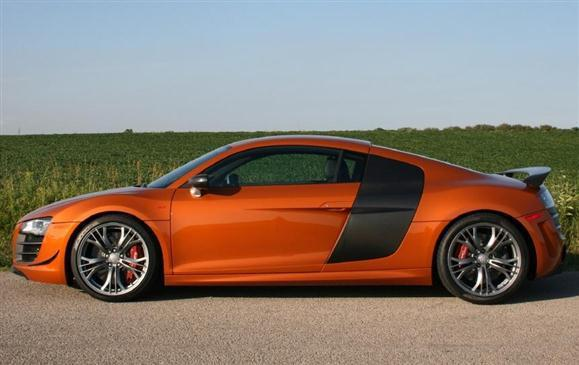Car: (10, 119, 567, 316)
